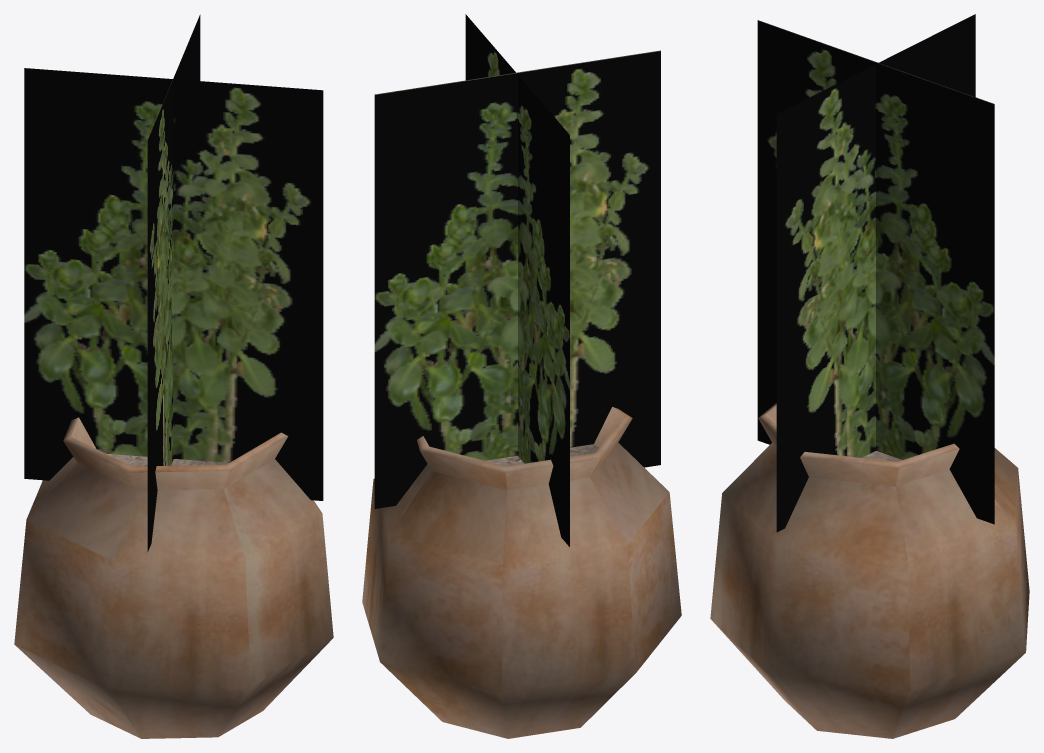
3 views of the same model, side by side, from view 1: azimuth 30°, elevation 25°; view 2: azimuth 150°, elevation 25°; view 3: azimuth 270°, elevation 25° (orthographic).
Parts seen in each view (by area): view 1: Plants_01003_Plants002_0, Plants_01003_Plaster_02001_0; view 2: Plants_01003_Plants002_0, Plants_01003_Plaster_02001_0; view 3: Plants_01003_Plants002_0, Plants_01003_Plaster_02001_0.
Part boxes in pixels (x1,y1,x2,y2): Plants_01003_Plants002_0: [24, 14, 323, 551]; Plants_01003_Plaster_02001_0: [14, 417, 333, 738]; Plants_01003_Plants002_0: [374, 14, 660, 546]; Plants_01003_Plaster_02001_0: [362, 407, 681, 738]; Plants_01003_Plants002_0: [757, 14, 994, 532]; Plants_01003_Plaster_02001_0: [710, 403, 1029, 738].
Bounding box in the file's own units: 0.6962 × 1.51 × 0.6826.
2 materials, 2 textured.
